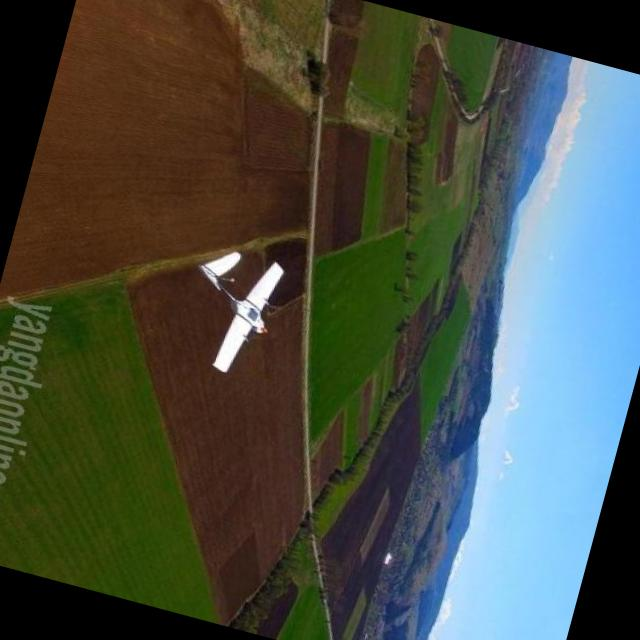UAV: (175, 237, 306, 398)
